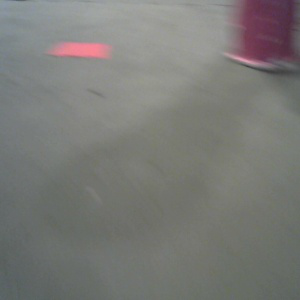right: (222, 1, 300, 75)
